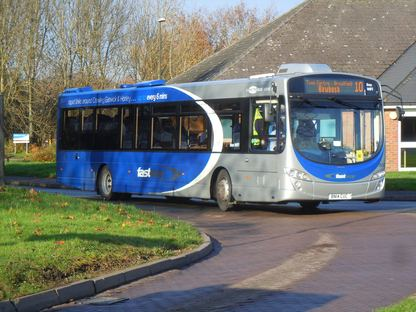bus: (54, 62, 406, 214)
